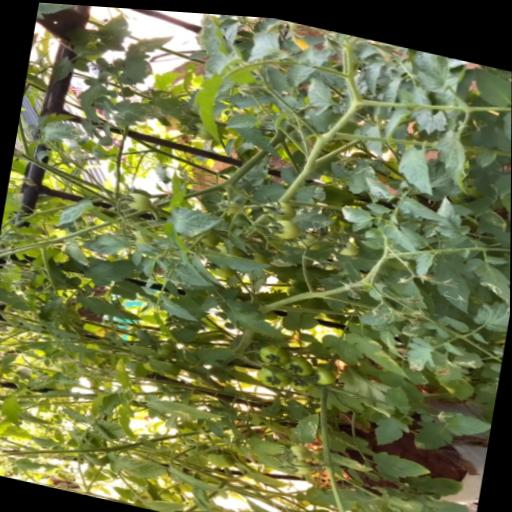Leaf_Miner: (339, 324, 415, 373), (424, 250, 477, 308), (455, 247, 511, 298), (120, 24, 170, 64), (433, 401, 492, 434), (111, 92, 166, 125), (410, 411, 454, 449), (401, 328, 440, 369), (370, 406, 411, 445), (289, 202, 336, 231), (286, 403, 320, 443), (349, 151, 378, 186), (327, 446, 373, 468), (35, 2, 76, 25), (478, 199, 509, 225), (452, 341, 486, 364), (83, 26, 111, 45), (400, 314, 426, 333), (481, 174, 500, 197), (476, 377, 495, 389)
